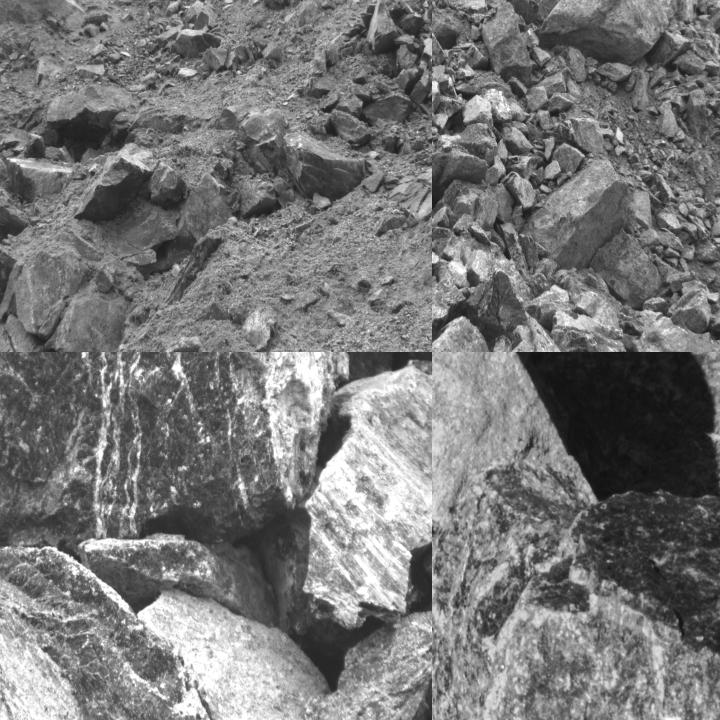stone: (0, 352, 352, 543), (432, 486, 719, 719), (432, 352, 596, 604), (301, 364, 431, 629), (432, 482, 553, 719), (519, 154, 624, 269), (467, 266, 597, 351), (533, 0, 669, 66), (17, 247, 84, 336), (74, 151, 159, 221), (590, 228, 662, 309), (282, 133, 368, 200), (432, 122, 498, 197), (53, 292, 130, 351), (111, 197, 178, 258), (482, 0, 532, 81), (550, 309, 629, 351), (6, 156, 72, 202), (0, 184, 23, 284), (670, 280, 710, 332), (559, 112, 604, 158), (432, 273, 465, 333), (141, 162, 187, 204), (361, 92, 413, 127), (503, 0, 559, 30), (367, 0, 398, 51), (237, 180, 277, 219), (503, 172, 539, 209), (331, 110, 368, 145), (460, 95, 493, 127), (656, 105, 684, 141), (394, 64, 426, 94), (552, 143, 584, 173), (500, 127, 534, 154), (672, 49, 705, 75), (545, 91, 576, 115), (596, 62, 631, 83), (261, 0, 319, 11), (410, 73, 431, 103), (432, 32, 446, 66), (508, 77, 527, 99), (536, 110, 554, 130), (432, 76, 441, 113), (543, 136, 555, 160), (709, 308, 719, 334), (432, 251, 440, 279)
